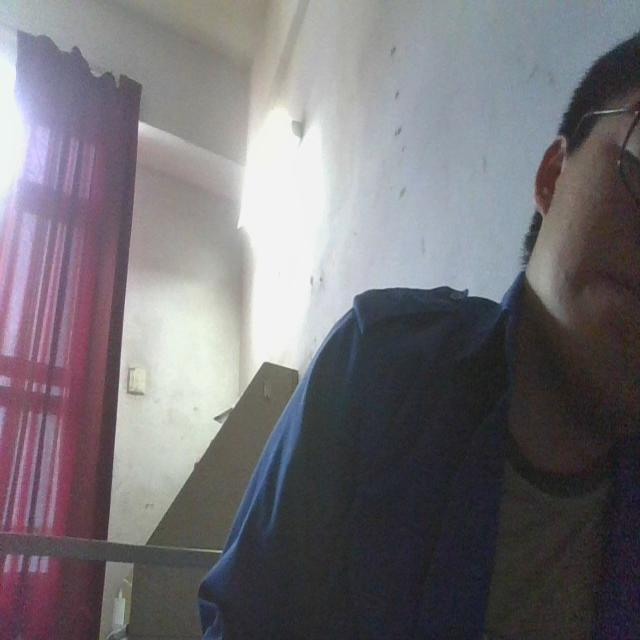person_with_labcoat: (198, 32, 640, 639)
